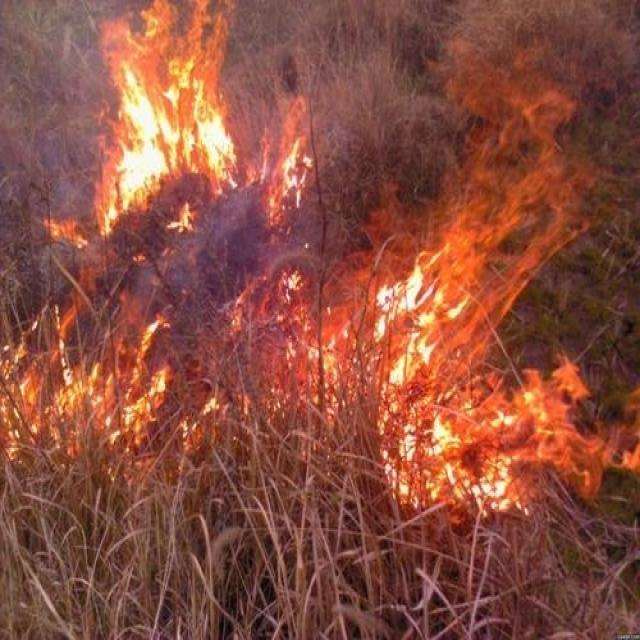Fire: (1, 1, 640, 522)
